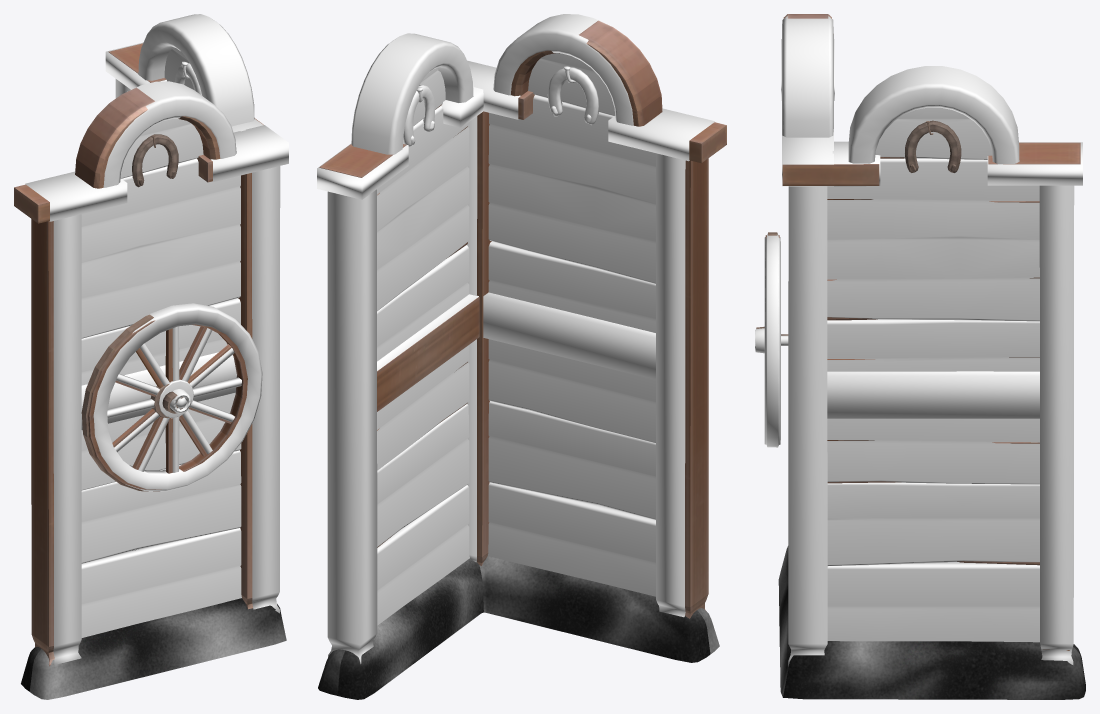
Rendered from WildWestBarrierCorner90.glb.
The picture shows the model from 3 angles, left to right: view 1: azimuth 30°, elevation 25°; view 2: azimuth 150°, elevation 25°; view 3: azimuth 270°, elevation 25°; orthographic projection. The views are drawn at different scales.
Parts seen in each view (by area): view 1: BarrierHologram, WildWestBarrierCorner90Model, SmokeCornerBarrier; view 2: BarrierHologram, WildWestBarrierCorner90Model, SmokeCornerBarrier; view 3: BarrierHologram, SmokeCornerBarrier, WildWestBarrierCorner90Model.
Part boxes in pixels (x1,y1,x2,y2): BarrierHologram: (25, 14, 288, 664); WildWestBarrierCorner90Model: (14, 43, 263, 666); SmokeCornerBarrier: (21, 549, 286, 699); BarrierHologram: (317, 14, 714, 663); WildWestBarrierCorner90Model: (319, 20, 726, 618); SmokeCornerBarrier: (318, 556, 719, 699); BarrierHologram: (755, 16, 1082, 666); SmokeCornerBarrier: (778, 546, 1085, 699); WildWestBarrierCorner90Model: (756, 14, 1080, 650).
Size of the model in its own units: 1.11 by 2.4 by 1.17.
3 materials, 2 textured.
